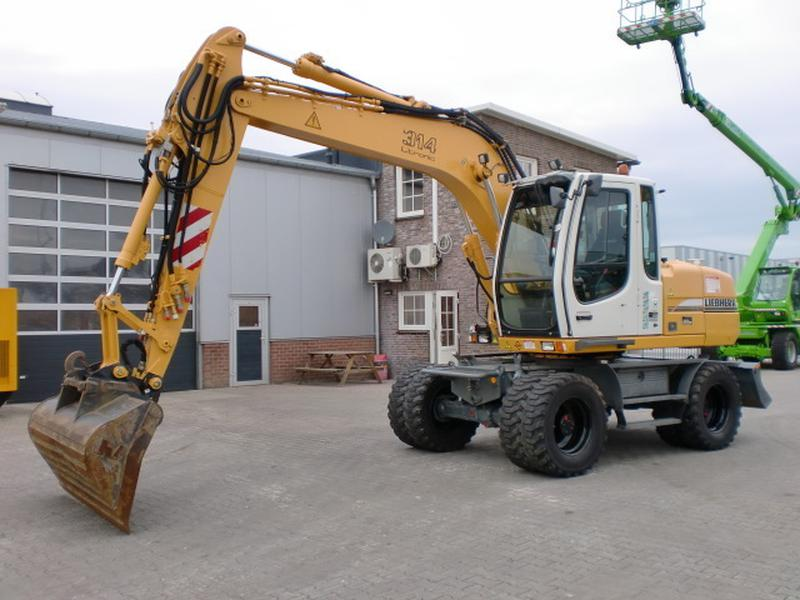shovel: (23, 19, 771, 535)
